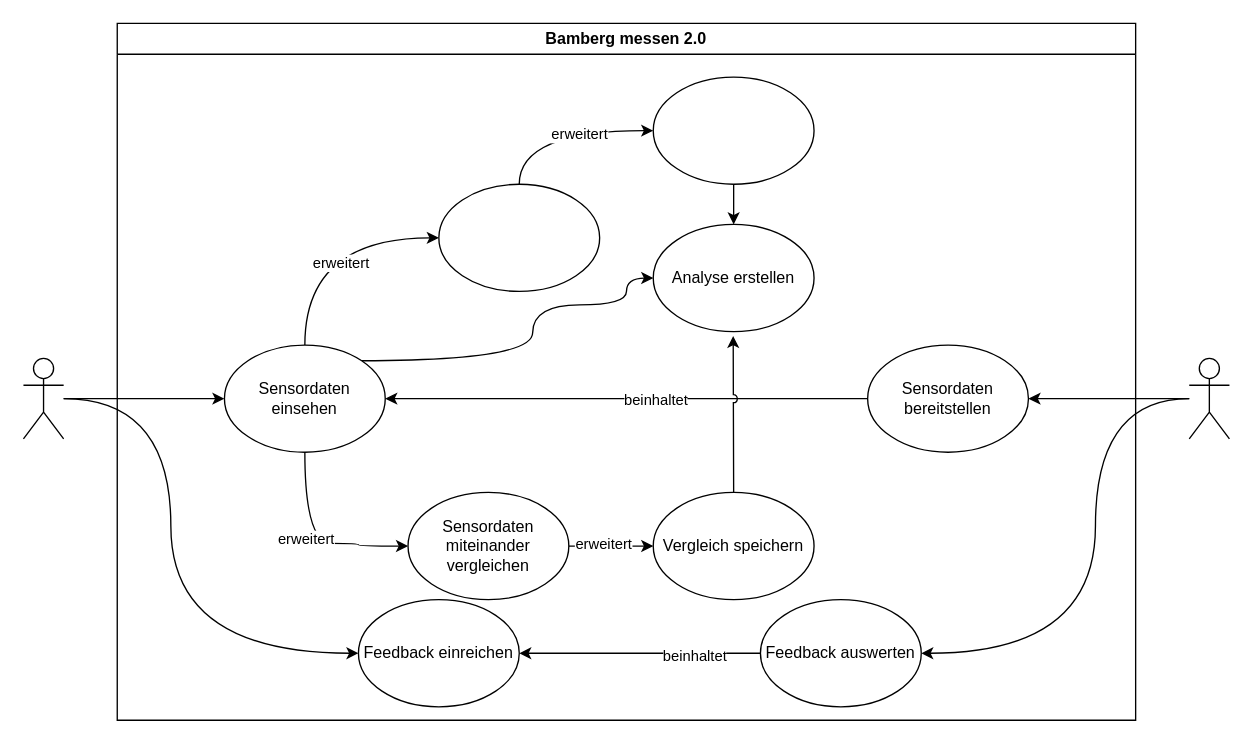
This 1256x744 diagram has some shape labels left out. The shapes that lost their labels are listed below. From the top down, each one's box as (x1, y1, x2, y2) in pixels, then its label:
(652, 76, 814, 184): Annotation hinzufügen
(438, 183, 600, 291): Anomalie entdecken
(22, 357, 64, 439): User
(1188, 357, 1229, 439): Admin
